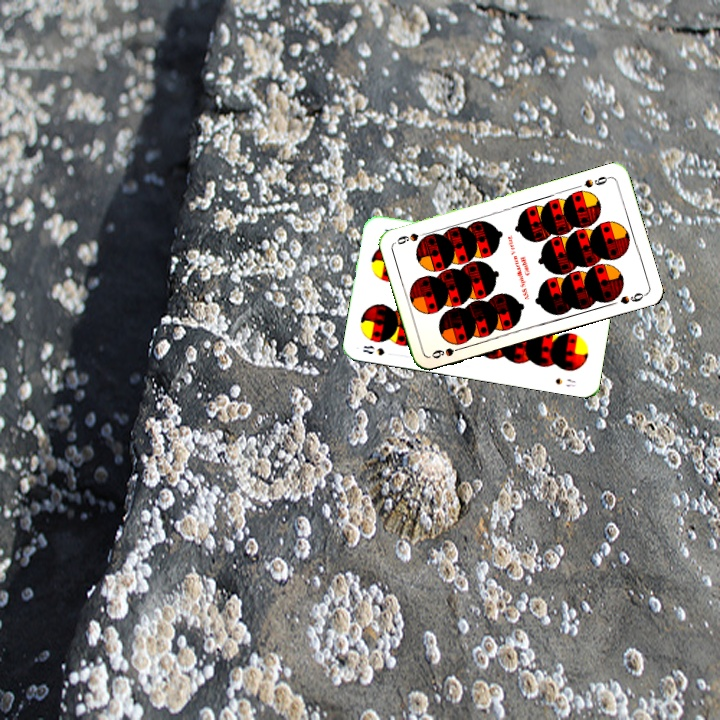S8: (359, 341, 387, 358)
S9: (427, 338, 467, 361), (580, 172, 613, 190)
